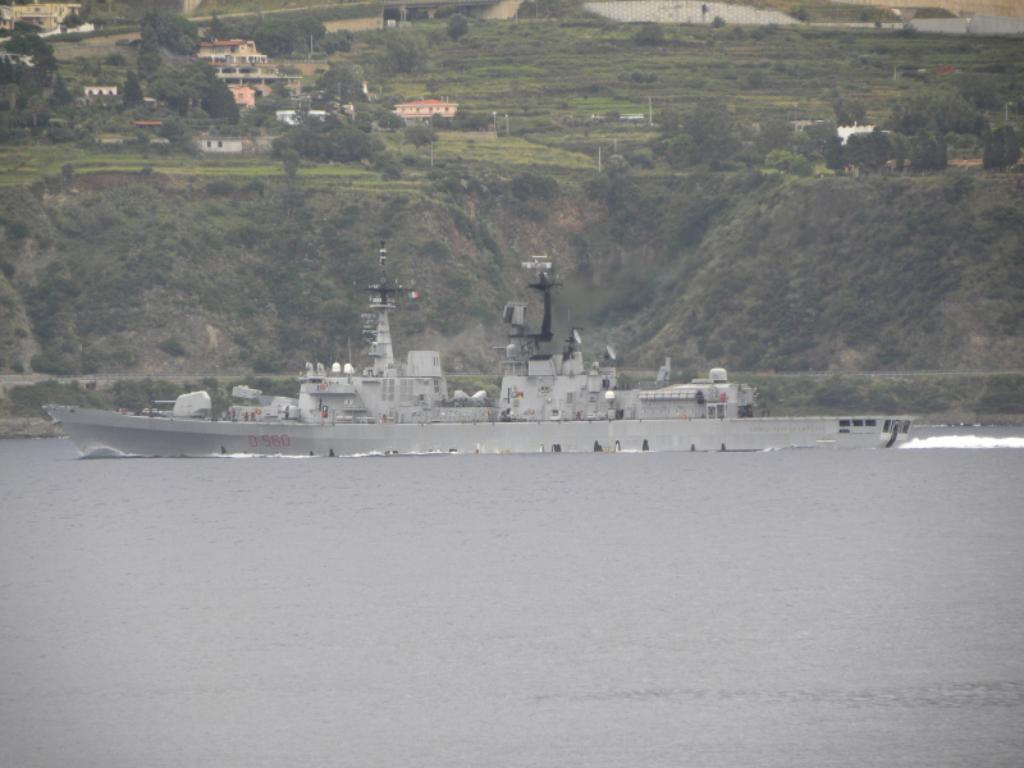Warship: (38, 235, 924, 461)
